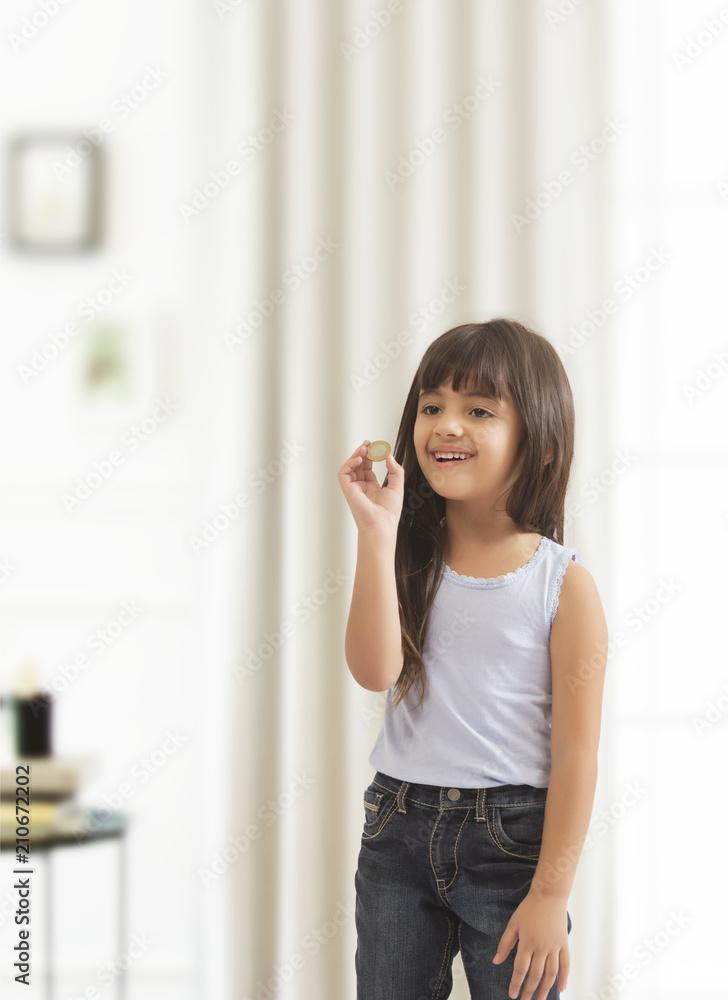Human: (314, 308, 609, 1000)
